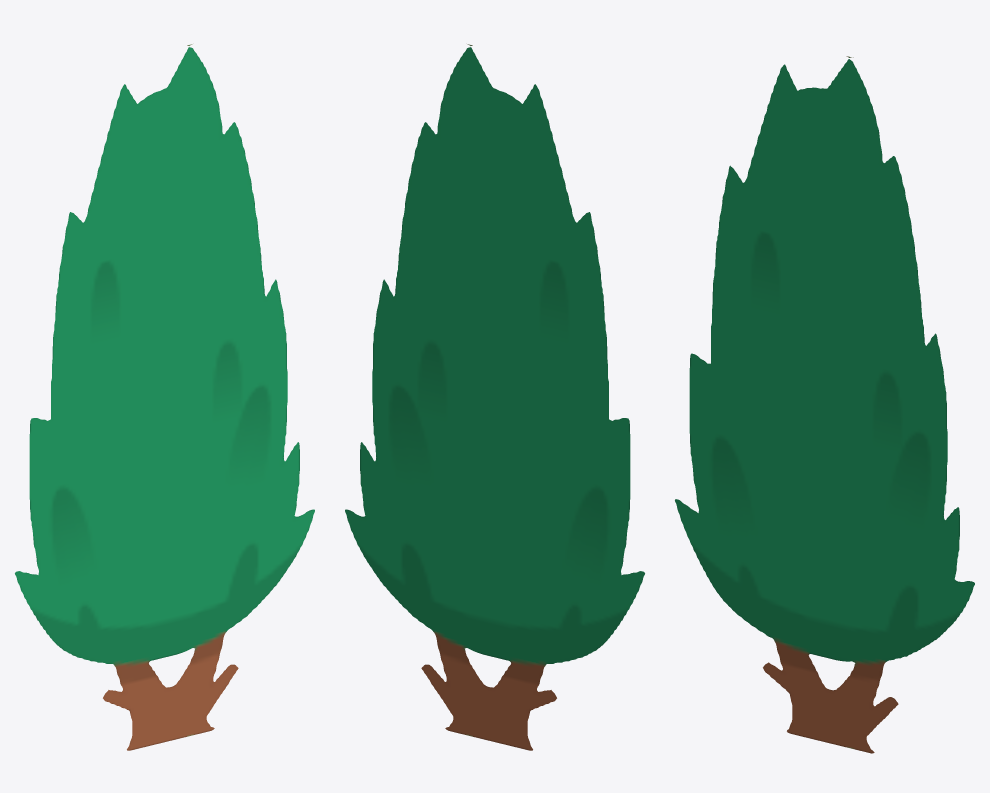
File: Tree_Billboard_02.obj
3 renders of one model, left to right at view 1: azimuth 30°, elevation 25°; view 2: azimuth 150°, elevation 25°; view 3: azimuth 330°, elevation 25°, orthographic.
Parts seen in each view (by area): view 1: Tree_Billboard_02; view 2: Tree_Billboard_02; view 3: Tree_Billboard_02.
Boxes of the visible parts, left/top/right/bottom form: Tree_Billboard_02: left=15, top=44, right=314, bottom=750; Tree_Billboard_02: left=345, top=44, right=644, bottom=750; Tree_Billboard_02: left=675, top=56, right=974, bottom=753.
Bounding box in the file's own units: 2.06 × 4.5 × 0.
Materials: 1 (1 with a texture image).
